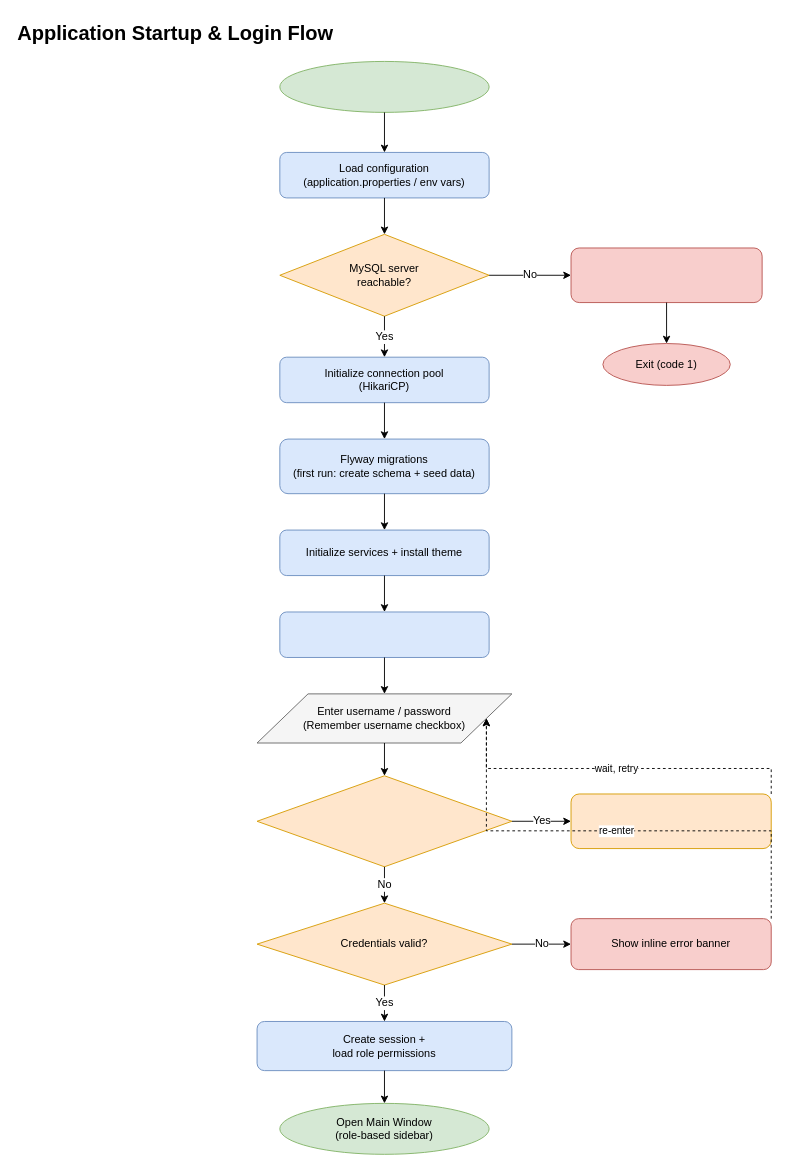
Image size: 794x1170. Some labels were removed from this diagram. The centre of each missing label's shape, as x and y in pixels:
"Too many failed attempts. Please try again in N seconds.": point 670,821
[STARTUP FAILED] diagnostic message shown in console: point 666,275
Account locked? (5 failures within 30 seconds): point 384,821
Open Login window: point 384,634
Run java -jar hr-management-system-1.0.0.jar: point 384,86
